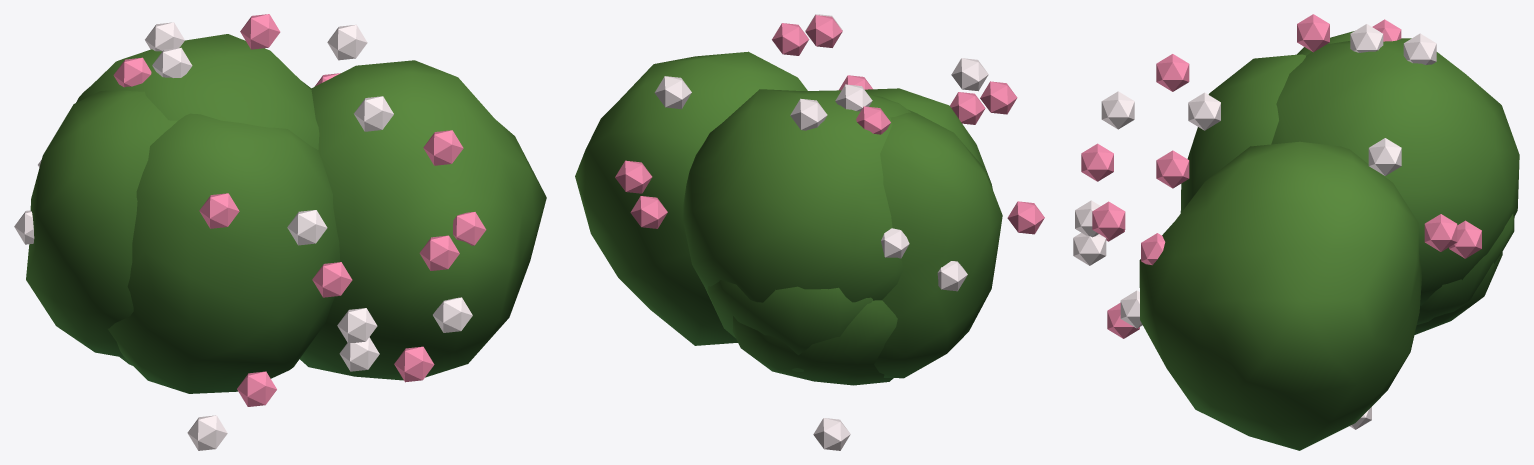
The model's file is cc_arbusto_flor.glb.
3 renders of one model, left to right at view 1: azimuth 30°, elevation 25°; view 2: azimuth 150°, elevation 25°; view 3: azimuth 270°, elevation 25°, orthographic. The views are drawn at different scales.
Parts seen in each view (by area): view 1: cc_arbusto_flor_leaf_copa, cc_arbusto_flor_leaf_fruta; view 2: cc_arbusto_flor_leaf_copa, cc_arbusto_flor_leaf_fruta; view 3: cc_arbusto_flor_leaf_copa, cc_arbusto_flor_leaf_fruta.
Part boxes in pixels (x1,y1,x2,y2): cc_arbusto_flor_leaf_copa: [26, 34, 546, 393]; cc_arbusto_flor_leaf_fruta: [14, 14, 486, 450]; cc_arbusto_flor_leaf_copa: [575, 51, 1002, 385]; cc_arbusto_flor_leaf_fruta: [615, 14, 1044, 450]; cc_arbusto_flor_leaf_copa: [1139, 31, 1519, 450]; cc_arbusto_flor_leaf_fruta: [1073, 14, 1481, 429].
Bounding box in the file's own units: 2.38 × 2.17 × 2.08.
